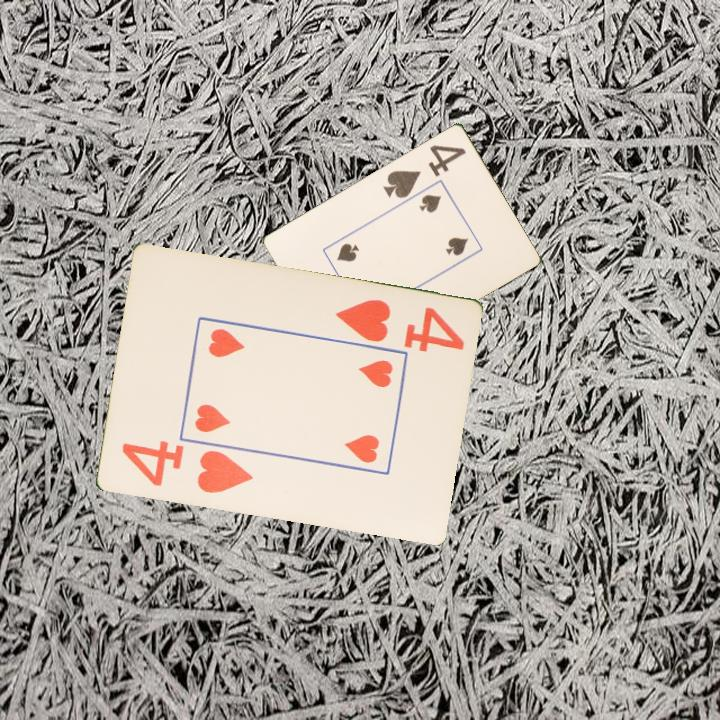4h: (117, 438, 255, 497), (331, 296, 467, 354)
4s: (380, 141, 469, 201)
